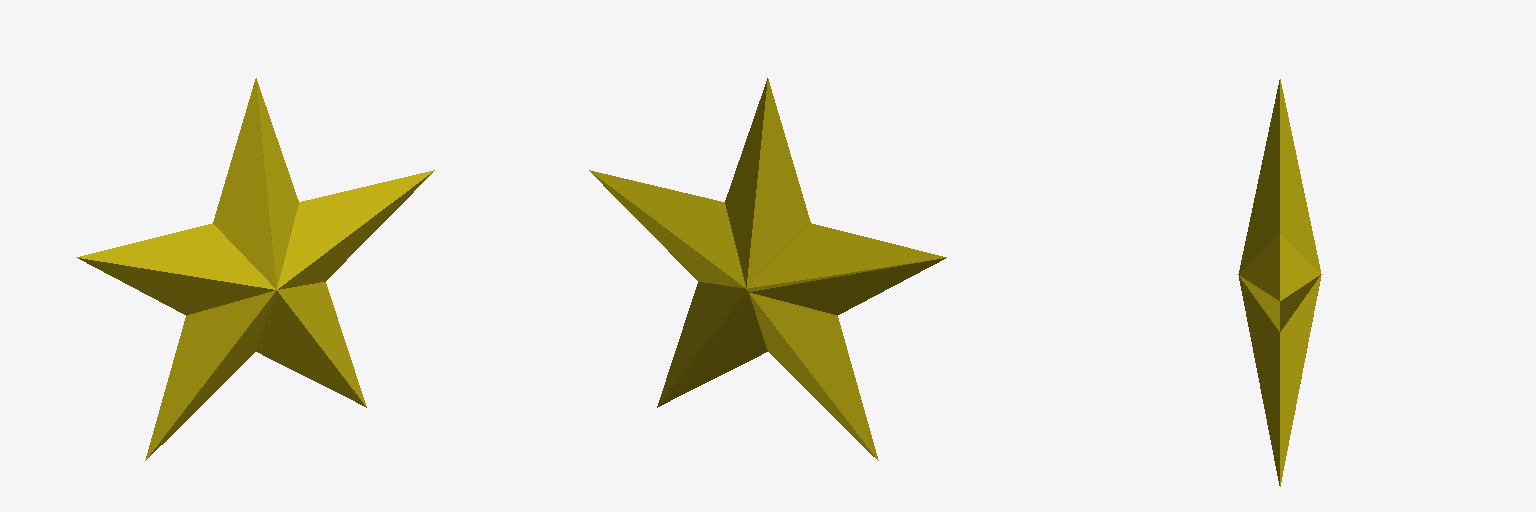
File: star.obj
3 views of the same model, side by side, from view 1: azimuth 30°, elevation 25°; view 2: azimuth 150°, elevation 25°; view 3: azimuth 270°, elevation 25° (orthographic).
Parts seen in each view (by area): view 1: Cube; view 2: Cube; view 3: Cube.
Boxes of the visible parts, box(x1,y1,x2,y2) form: Cube: box(76, 78, 434, 460); Cube: box(589, 78, 946, 460); Cube: box(1238, 79, 1321, 486).
Bounding box in the file's own units: 0.7755 × 0.7375 × 0.1553.